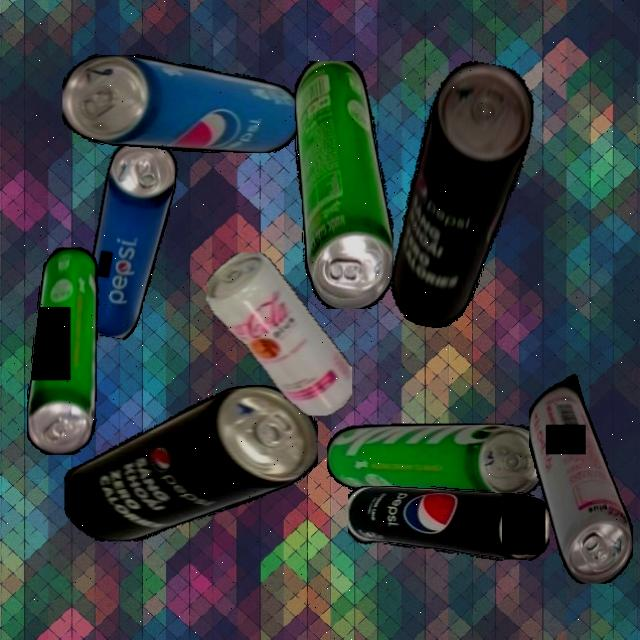debris: (386, 54, 540, 338), (63, 386, 318, 542), (294, 60, 393, 309), (205, 252, 352, 416), (62, 53, 301, 153), (528, 373, 633, 584), (80, 136, 182, 343), (326, 424, 543, 498), (26, 246, 100, 455), (347, 486, 550, 561)
